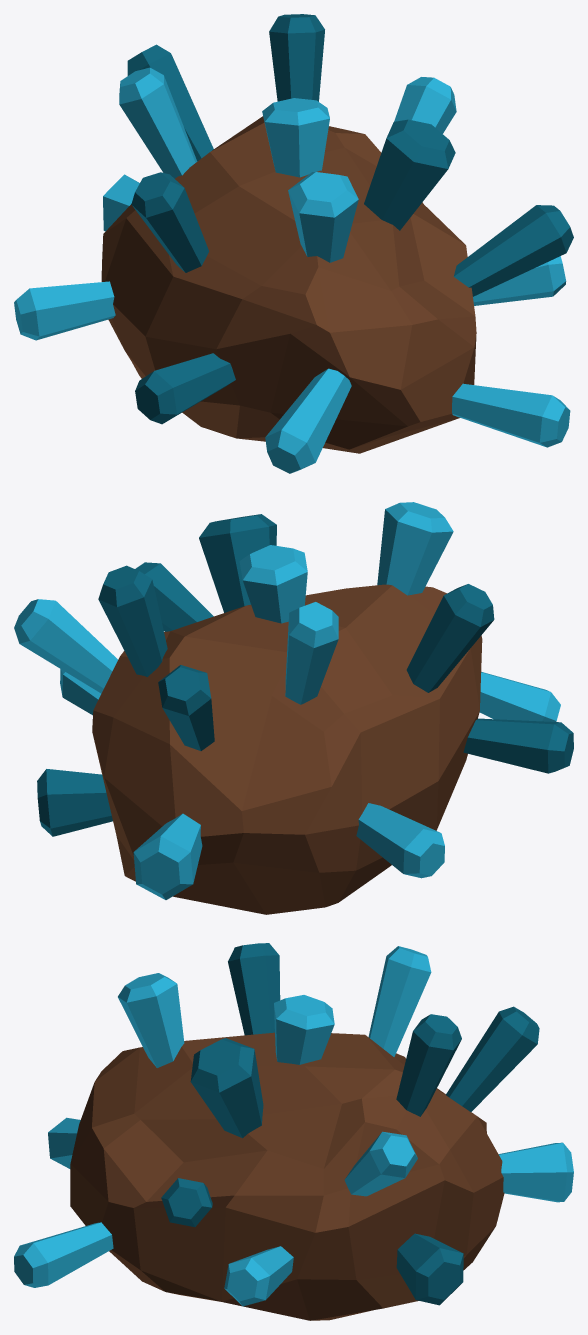
The model's file is MineralNode_03_A.fbx.
3 views of the same model, one above another, from view 1: azimuth 30°, elevation 25°; view 2: azimuth 150°, elevation 25°; view 3: azimuth 270°, elevation 25° (orthographic). The views are drawn at different scales.
Parts seen in each view (by area): view 1: MineralNode_03_A; view 2: MineralNode_03_A; view 3: MineralNode_03_A.
Boxes of the visible parts, box(x1,y1,x2,y2) form: MineralNode_03_A: box(14, 14, 573, 473); MineralNode_03_A: box(14, 502, 573, 914); MineralNode_03_A: box(14, 943, 573, 1320).
Size of the model in its own units: 115 by 76.7 by 131.
